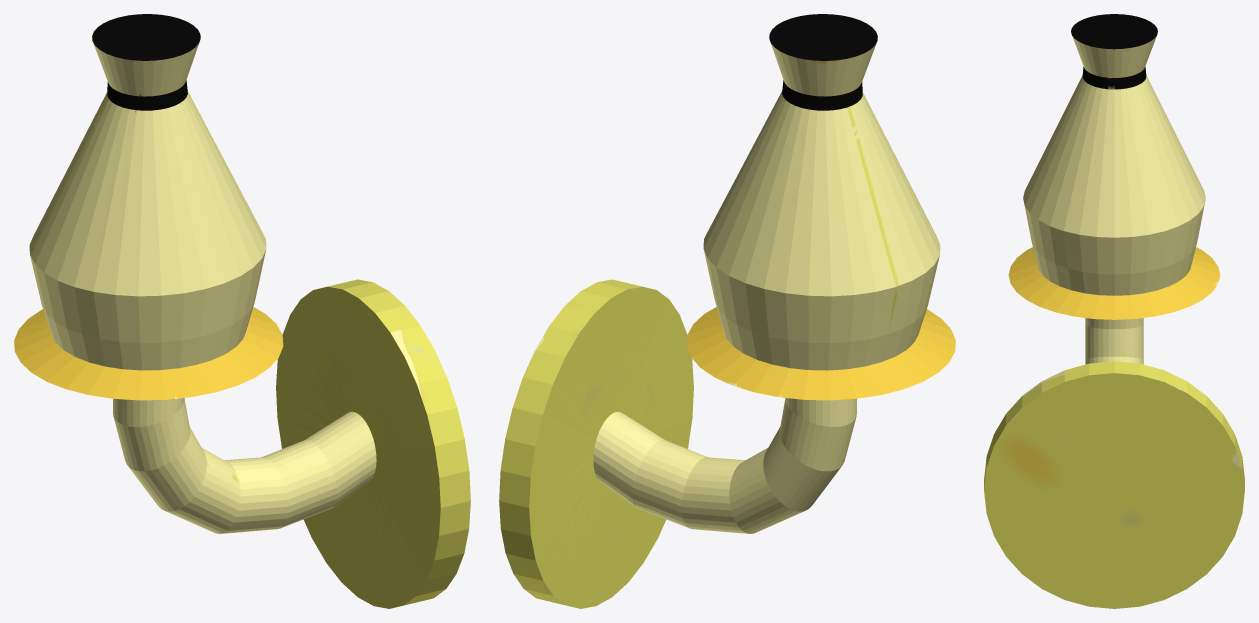
The model's file is wall lamp.obj.
The picture shows the model from 3 angles, left to right: view 1: azimuth 30°, elevation 25°; view 2: azimuth 150°, elevation 25°; view 3: azimuth 270°, elevation 25°; orthographic projection. The views are drawn at different scales.
Parts seen in each view (by area): view 1: Cylinder; view 2: Cylinder; view 3: Cylinder.
Boxes of the visible parts, x1=… form: Cylinder: x1=14, y1=14, x2=470, y2=608; Cylinder: x1=499, y1=14, x2=955, y2=608; Cylinder: x1=984, y1=14, x2=1244, y2=608.
Bounding box in the file's own units: 2.51 × 4.1 × 2.
1 material, 1 textured.
